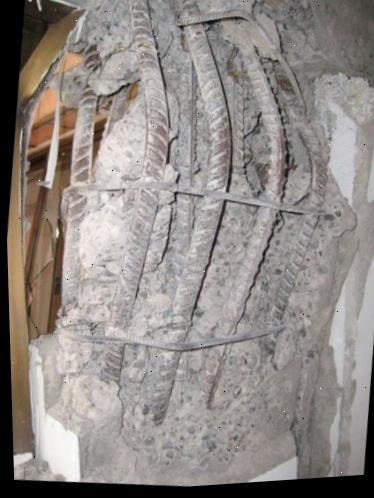exposed_rebar: (59, 0, 326, 423), (235, 211, 305, 332)
spalling: (36, 0, 356, 486)
